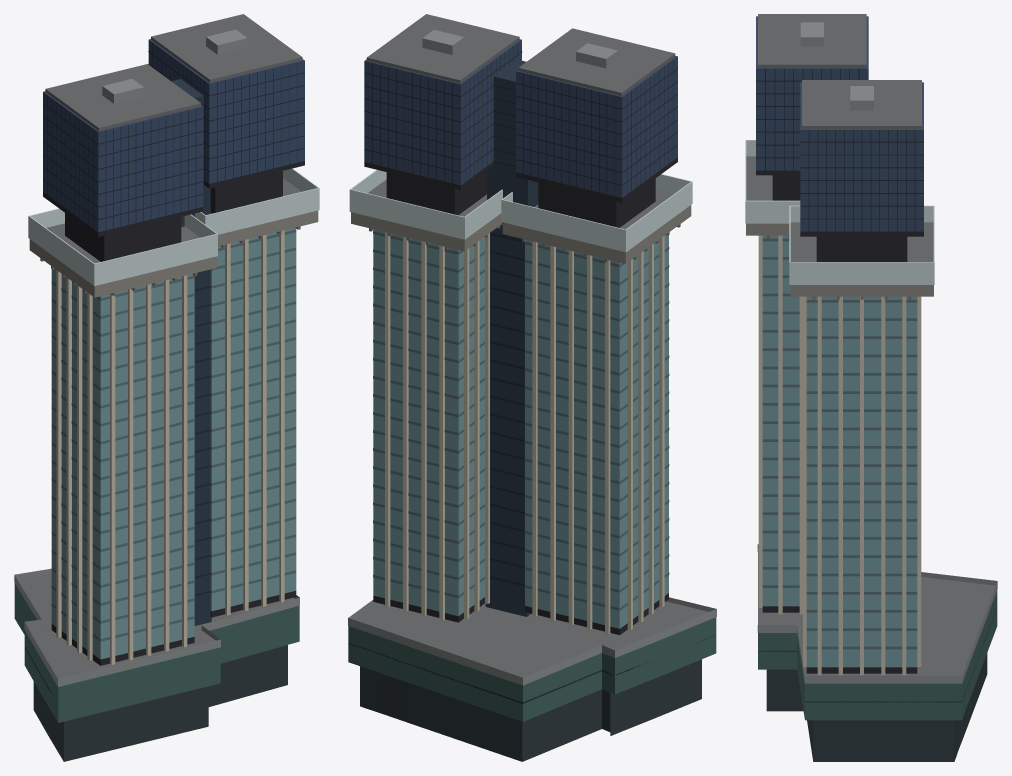
3 renders of one model, left to right at view 1: azimuth 30°, elevation 25°; view 2: azimuth 150°, elevation 25°; view 3: azimuth 270°, elevation 25°, orthographic.
Parts seen in each view (by area): view 1: glass, structure, crown_glass; view 2: glass, structure, crown_glass; view 3: glass, structure, crown_glass.
Part boxes in pixels (x1,y1,x2,y2): glass: [14, 168, 319, 722]; structure: [14, 14, 318, 761]; crown_glass: [43, 39, 304, 232]; glass: [348, 170, 716, 721]; structure: [348, 14, 716, 761]; crown_glass: [364, 39, 677, 223]; glass: [745, 140, 997, 720]; structure: [746, 14, 997, 761]; crown_glass: [756, 16, 923, 231].
Bounding box in the file's own units: 55.32 × 122 × 42.91.
